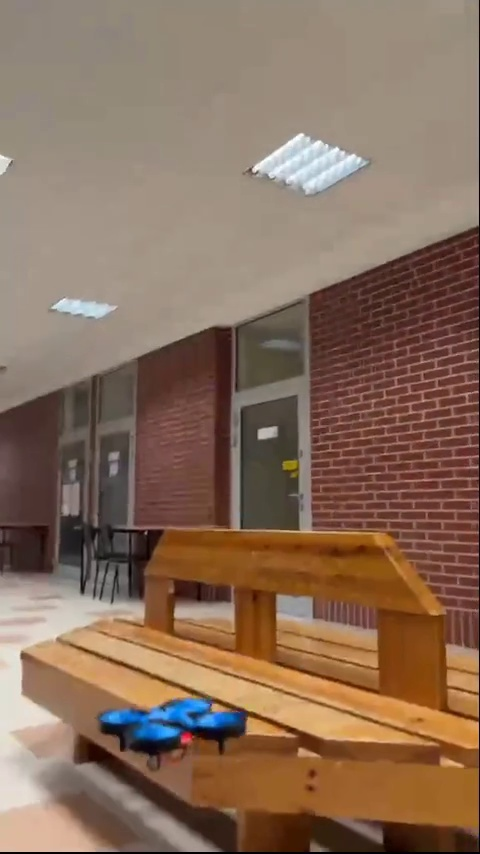drone: (99, 698, 240, 773)
